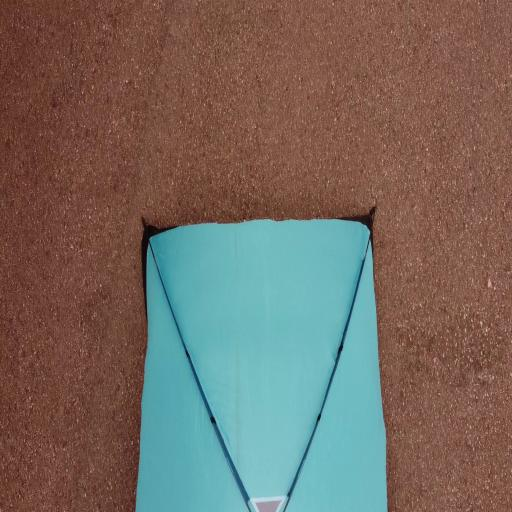tent: (131, 197, 395, 512)
